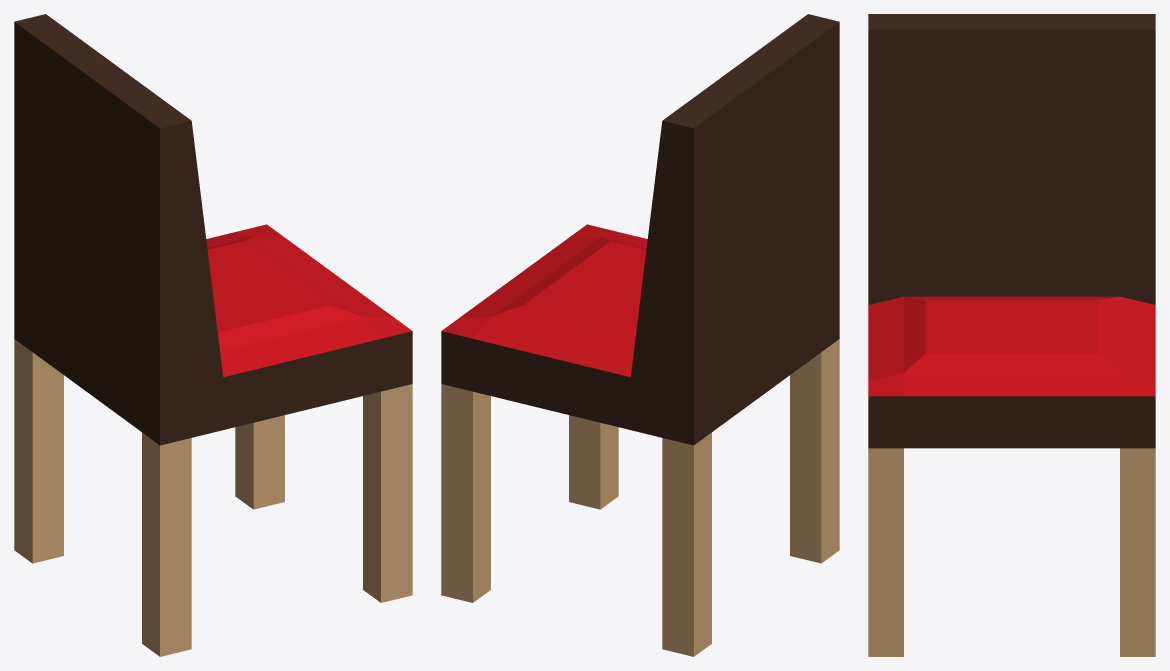
File: Pub Chair.fbx
The picture shows the model from 3 angles, left to right: view 1: azimuth 30°, elevation 25°; view 2: azimuth 150°, elevation 25°; view 3: azimuth 270°, elevation 25°; orthographic projection.
Visible parts, largest first — view 1: Pub Chair; view 2: Pub Chair; view 3: Pub Chair.
Boxes of the visible parts, bbox=[...] form: Pub Chair: bbox=[14, 14, 412, 656]; Pub Chair: bbox=[441, 14, 839, 656]; Pub Chair: bbox=[868, 14, 1155, 656].
Size of the model in its own units: 1000 by 2000 by 1000.
